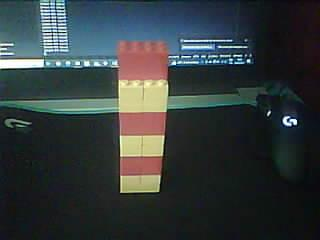lego: (115, 40, 170, 196)
